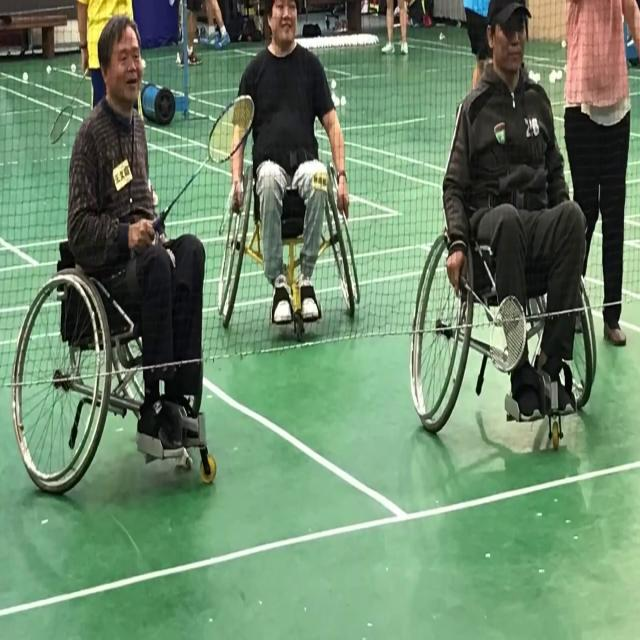wheelchairs: (4, 201, 220, 518), (396, 193, 606, 464), (207, 113, 377, 344)
